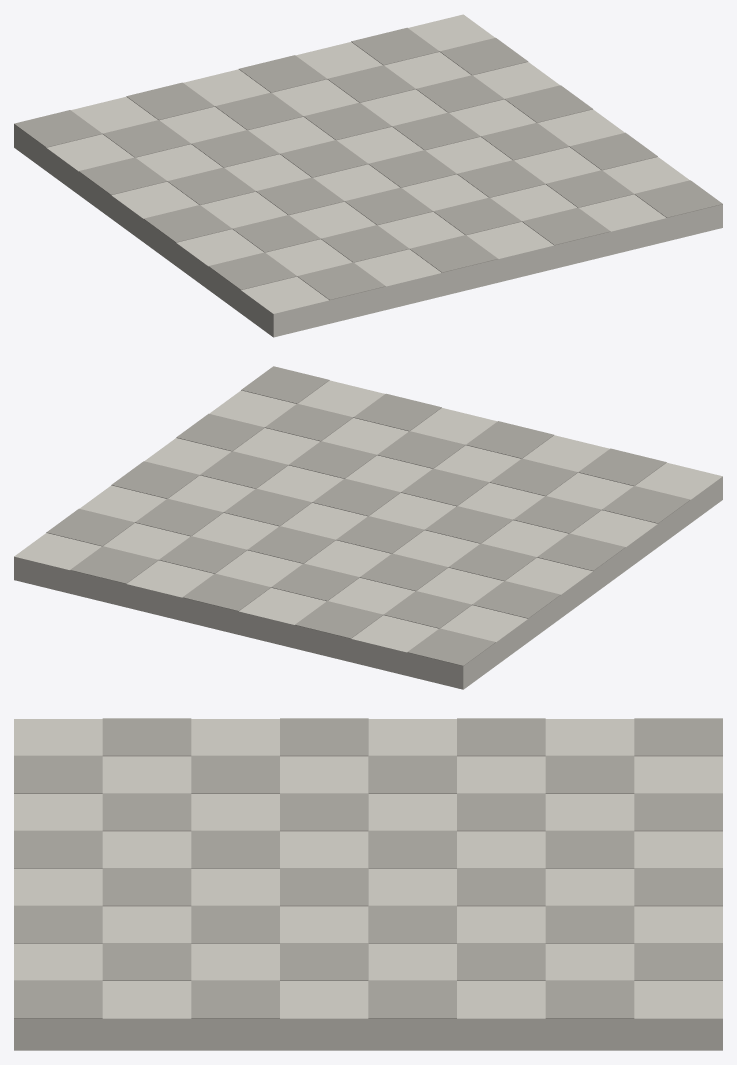
The model's file is Store24_Floor_Tile_4m.glb.
3 views of the same model, one above another, from view 1: azimuth 30°, elevation 25°; view 2: azimuth 150°, elevation 25°; view 3: azimuth 270°, elevation 25° (orthographic). The views are drawn at different scales.
Visible parts, largest first — view 1: Store24_Floor_Tile_4m; view 2: Store24_Floor_Tile_4m; view 3: Store24_Floor_Tile_4m.
Boxes of the visible parts, left/top/right/bottom form: Store24_Floor_Tile_4m: left=14, top=14, right=722, bottom=337; Store24_Floor_Tile_4m: left=14, top=366, right=722, bottom=689; Store24_Floor_Tile_4m: left=14, top=718, right=722, bottom=1050.
Bounding box in the file's own units: 4 × 0.204 × 4.
1 material, 1 textured.
